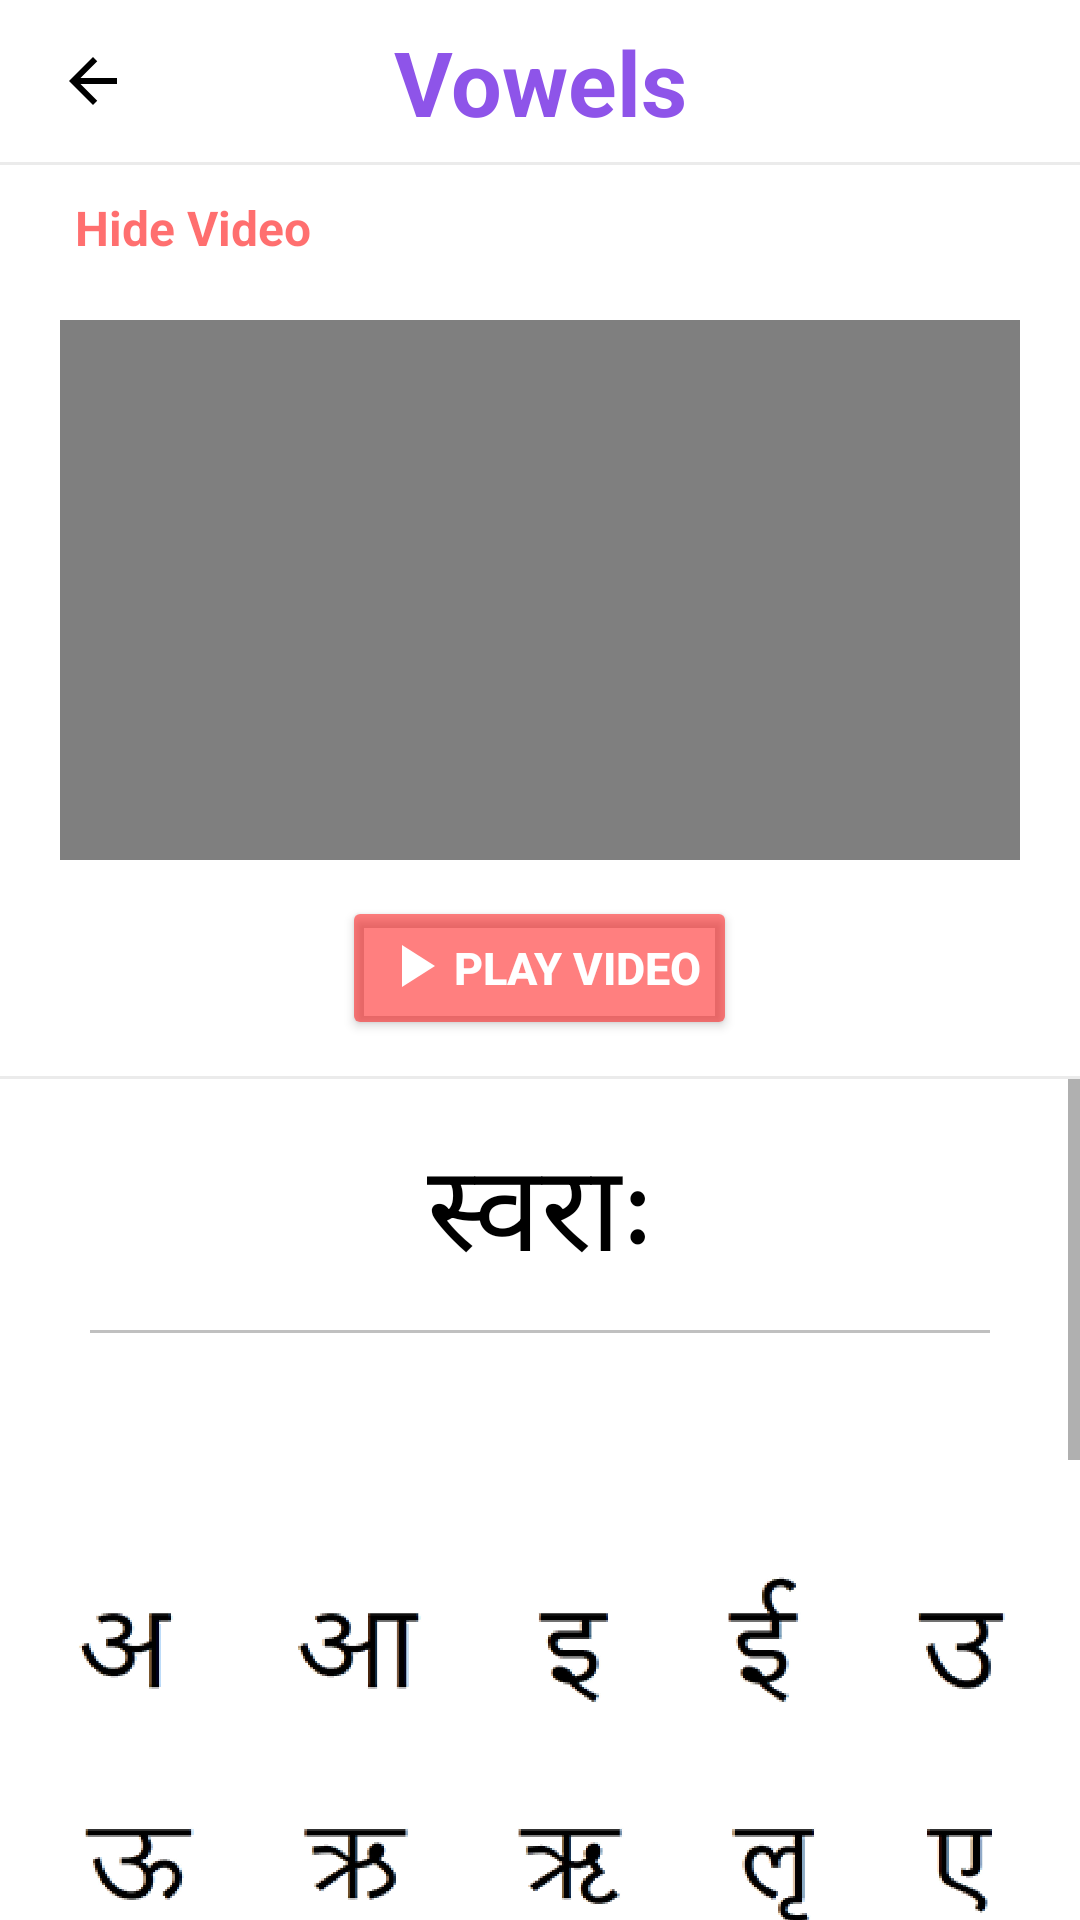

Screen size 1080 × 1920. Icon name, then its box in pixels as [x1,y1,x2,y2]:
arrow: [69,57,117,105]
